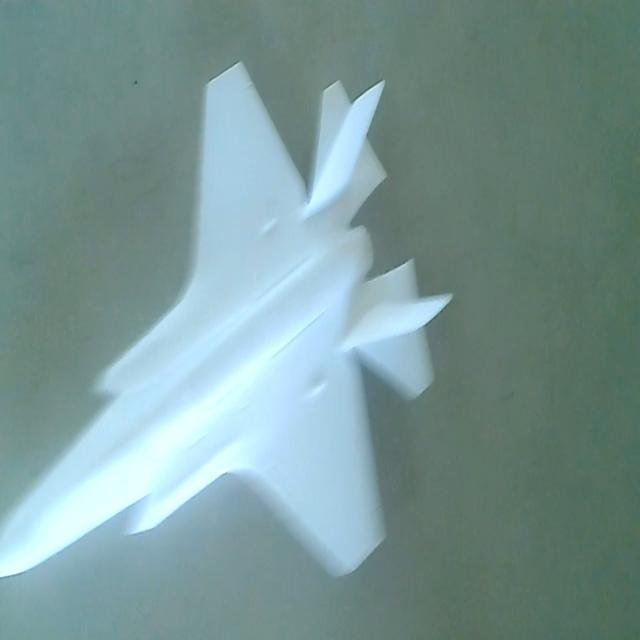Jet: (2, 60, 452, 590)
